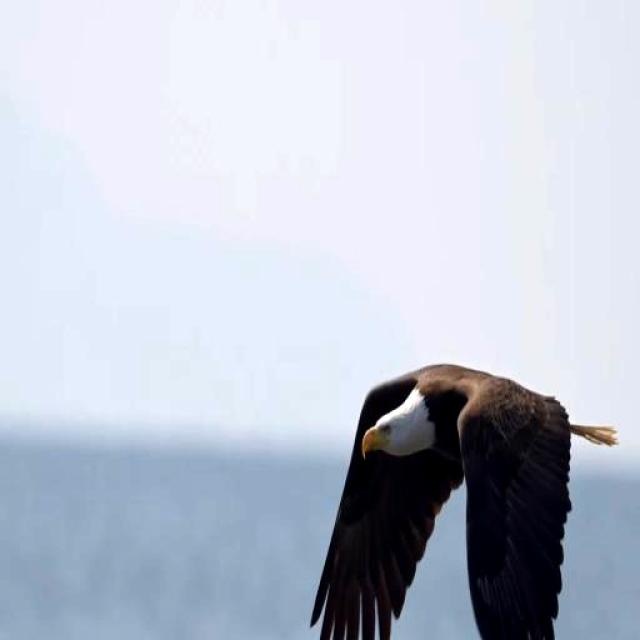airplane: (295, 341, 629, 640)
